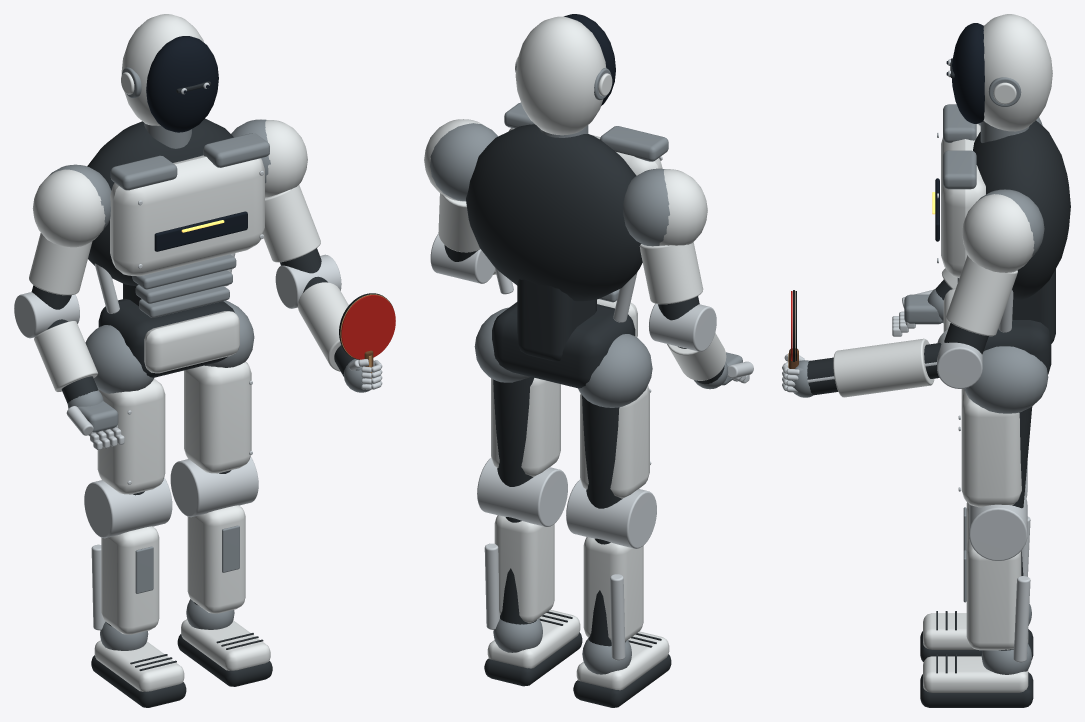
Rendered from arena-robot.glb.
3 renders of one model, left to right at view 1: azimuth 30°, elevation 25°; view 2: azimuth 150°, elevation 25°; view 3: azimuth 270°, elevation 25°, orthographic. The views are drawn at different scales.
Parts seen in each view (by area): view 1: Chest_Pearl, Thigh_armor_R, Thigh_armor_L, Face_glass, Shin_armor_L, Shin_armor_R, Ribcage, Shoulder_armor_L, Pelvis_front, Knee_axle_R, Knee_axle_L, Upper_arm_shell_R (+32 smaller); view 2: Ribcage, Head_pearl, Pelvis_body, Shin_armor_R, Spine, Shin_armor_L, Knee_axle_L, Knee_axle_R, Thigh_armor_L, Hip_ball, Thigh_armor_R, Femur_R (+25 smaller); view 3: Ribcage, Head_pearl, Thigh_armor_R, Shin_armor_R, Forearm_shell_R, Shoulder_armor_R, Hip_ball.001, Upper_arm_shell_R, Foot_armor_R, Knee_axle_R, Chest_Pearl, Face_glass (+17 smaller).
Boxes of the visible parts, bbox=[...] form: Chest_Pearl: bbox=[110, 155, 264, 276]; Thigh_armor_R: bbox=[184, 361, 251, 473]; Thigh_armor_L: bbox=[97, 378, 165, 494]; Face_glass: bbox=[146, 36, 218, 132]; Shin_armor_L: bbox=[101, 526, 159, 634]; Shin_armor_R: bbox=[187, 505, 245, 613]; Ribcage: bbox=[87, 118, 233, 286]; Shoulder_armor_L: bbox=[32, 169, 105, 247]; Pelvis_front: bbox=[144, 311, 239, 373]; Knee_axle_R: bbox=[170, 456, 258, 517]; Knee_axle_L: bbox=[84, 477, 172, 538]; Upper_arm_shell_R: bbox=[263, 185, 320, 262]; Ribcage: bbox=[466, 124, 642, 301]; Head_pearl: bbox=[515, 16, 606, 135]; Pelvis_body: bbox=[492, 302, 635, 388]; Shin_armor_R: bbox=[494, 515, 554, 623]; Spine: bbox=[517, 279, 596, 361]; Shin_armor_L: bbox=[583, 537, 643, 641]; Knee_axle_L: bbox=[566, 479, 656, 548]; Knee_axle_R: bbox=[477, 457, 567, 526]; Thigh_armor_L: bbox=[580, 385, 649, 498]; Hip_ball: bbox=[578, 334, 652, 407]; Thigh_armor_R: bbox=[491, 378, 560, 476]; Femur_R: bbox=[493, 377, 534, 486]; Ribcage: bbox=[973, 120, 1070, 300]; Head_pearl: bbox=[983, 14, 1052, 131]; Thigh_armor_R: bbox=[961, 391, 1021, 507]; Shin_armor_R: bbox=[966, 539, 1021, 650]; Forearm_shell_R: bbox=[833, 338, 934, 397]; Shoulder_armor_R: bbox=[962, 194, 1034, 272]; Hip_ball.001: bbox=[964, 346, 1048, 413]; Upper_arm_shell_R: bbox=[946, 255, 1017, 336]; Foot_armor_R: bbox=[923, 656, 1028, 692]; Knee_axle_R: bbox=[969, 495, 1027, 560]; Chest_Pearl: bbox=[941, 124, 985, 277]; Face_glass: bbox=[952, 23, 984, 123].
Size of the model in its own units: 0.88 by 1.94 by 0.7669.
